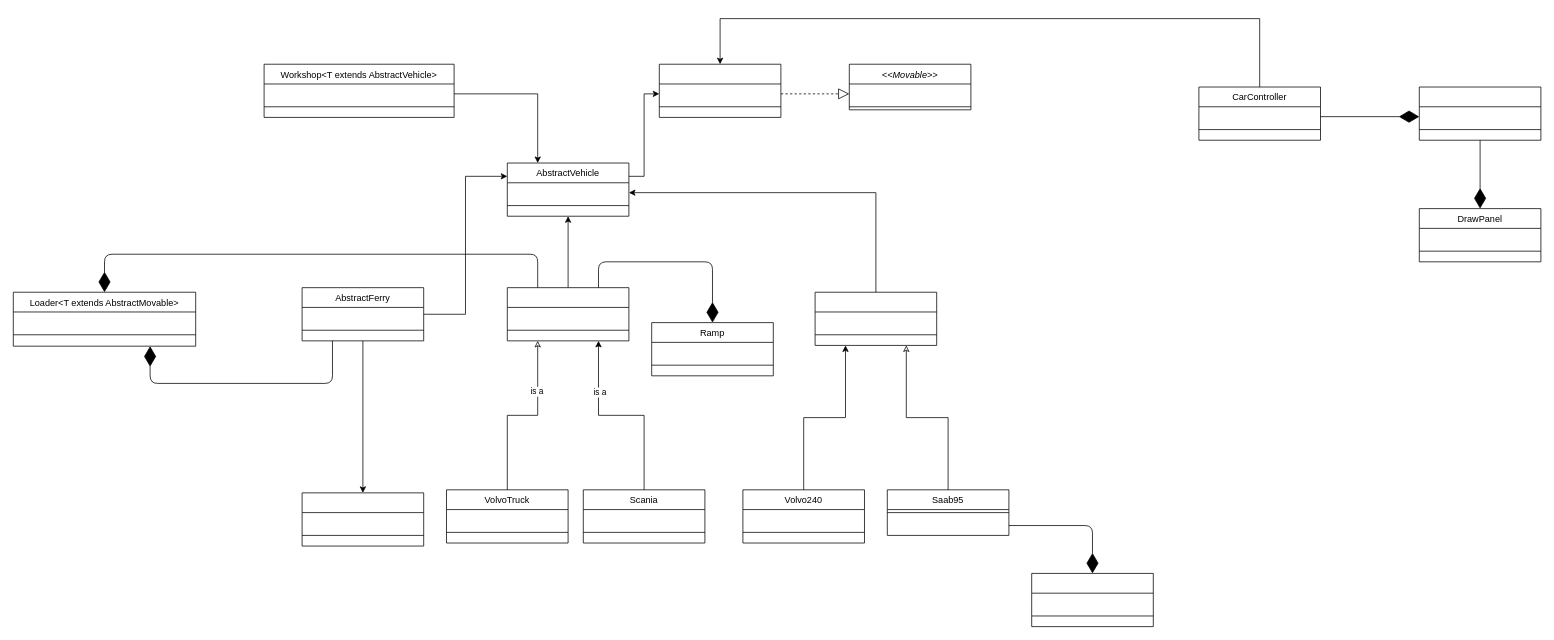
Some shapes in this 1554 by 640 pixel diagram are drawn without their labels. The shapes that lost their labels are listed below. From the top down, each one's box as (x1, y1, x2, y2) in pixels, then its label:
(659, 63, 781, 117): AbstractMovable
(1419, 86, 1541, 140): CarView
(507, 287, 629, 341): AbstractTruck
(814, 291, 937, 345): AbstractCar
(301, 492, 424, 546): BoatyMcBoatFace
(1031, 573, 1153, 627): Turbo
